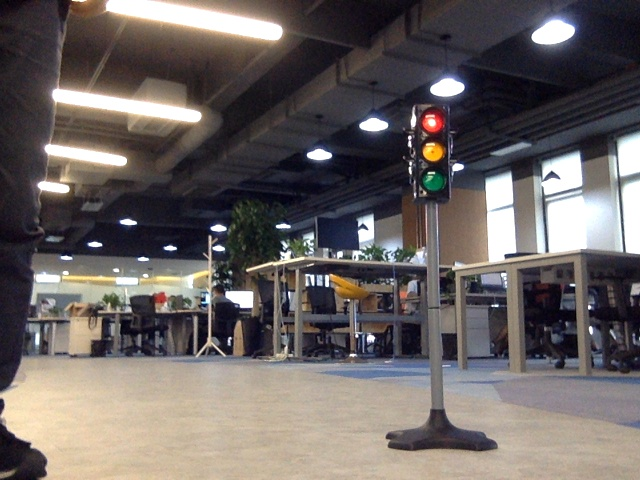red: (413, 110, 447, 190)
